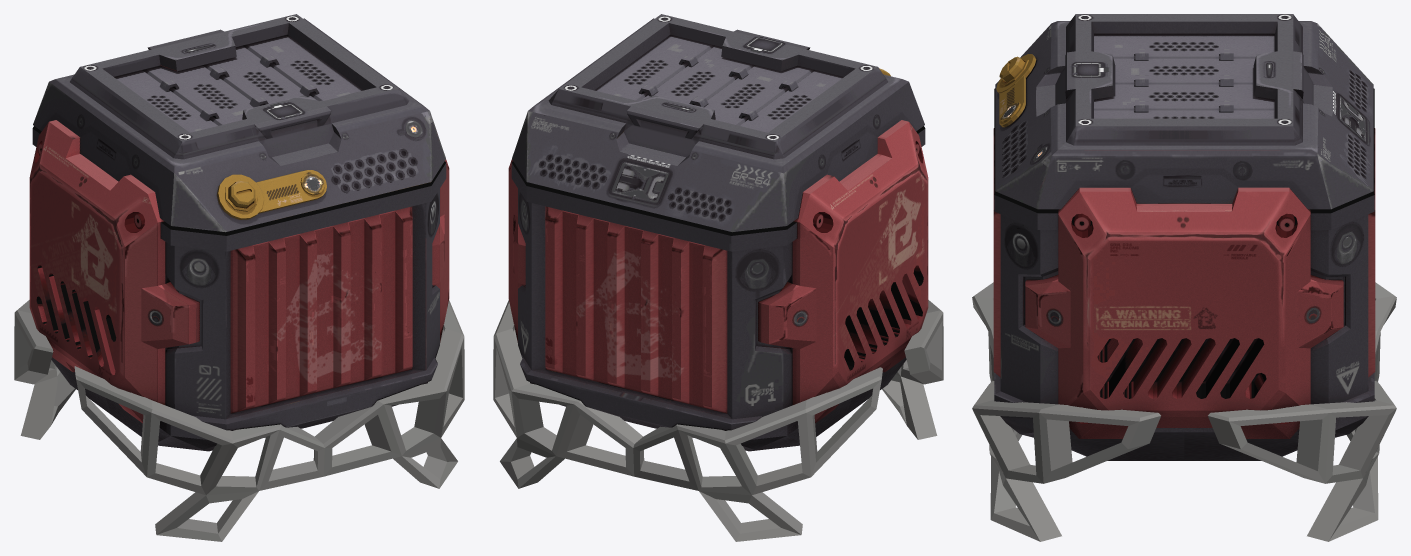
File: container.glb
The picture shows the model from 3 angles, left to right: view 1: azimuth 30°, elevation 25°; view 2: azimuth 150°, elevation 25°; view 3: azimuth 270°, elevation 25°; orthographic projection. The views are drawn at different scales.
Visible parts, largest first — view 1: lifangti; view 2: lifangti; view 3: lifangti.
Boxes of the visible parts, x1,y1,x2,y2 form: lifangti: [14, 14, 464, 541]; lifangti: [493, 14, 943, 541]; lifangti: [972, 14, 1396, 541].
Size of the model in its own units: 11.9 by 11.42 by 11.17.
1 material, 1 textured.
